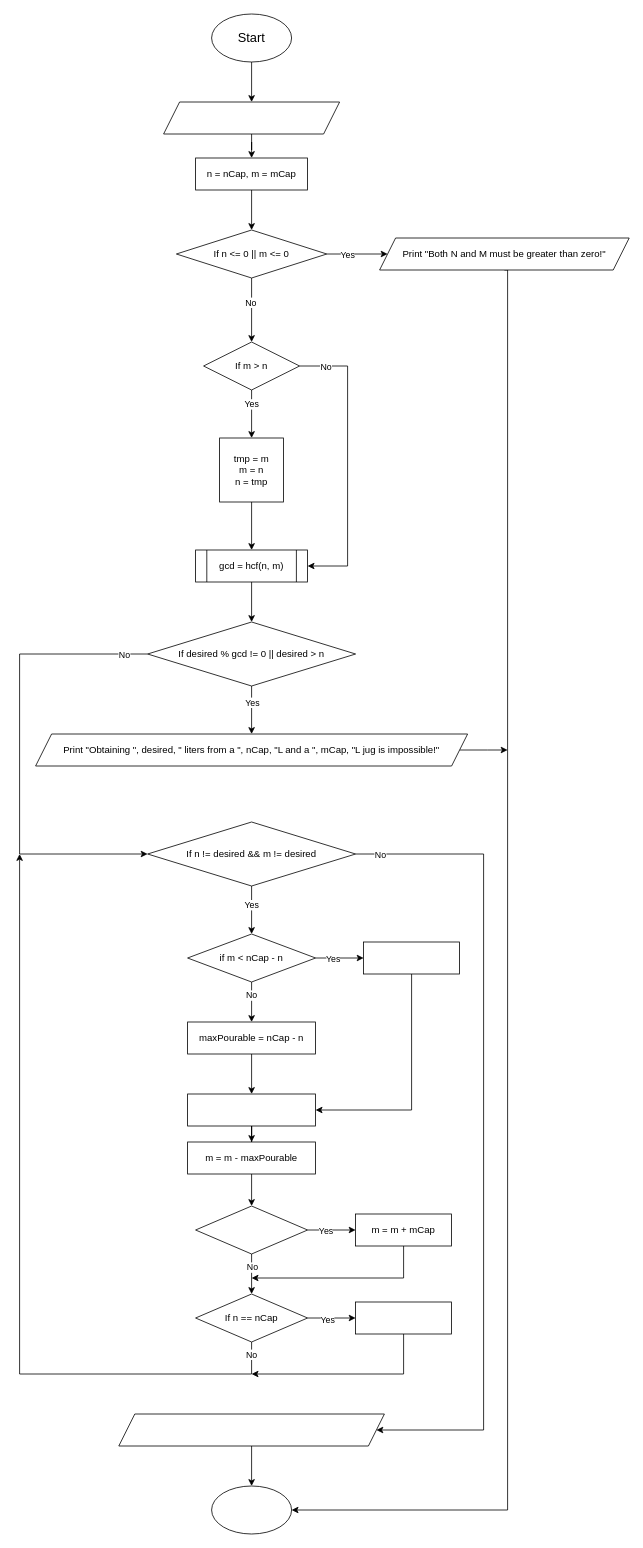
Image size: 643x1548. Some labels were removed from this diagram. The shapes that lost their labels are listed below. From the top down, each one's centre as x and y in pixels, then its label:
pixel 251 117: Read nCap, mCap, desired
pixel 411 957: maxPourable = m
pixel 251 1109: n = n + maxPourable
pixel 251 1229: If m == 0
pixel 403 1317: n = n - nCap
pixel 251 1429: Print nCap, "L Jug = ", n, " & ", mCap, "L Jug = ", m
pixel 251 1509: End
